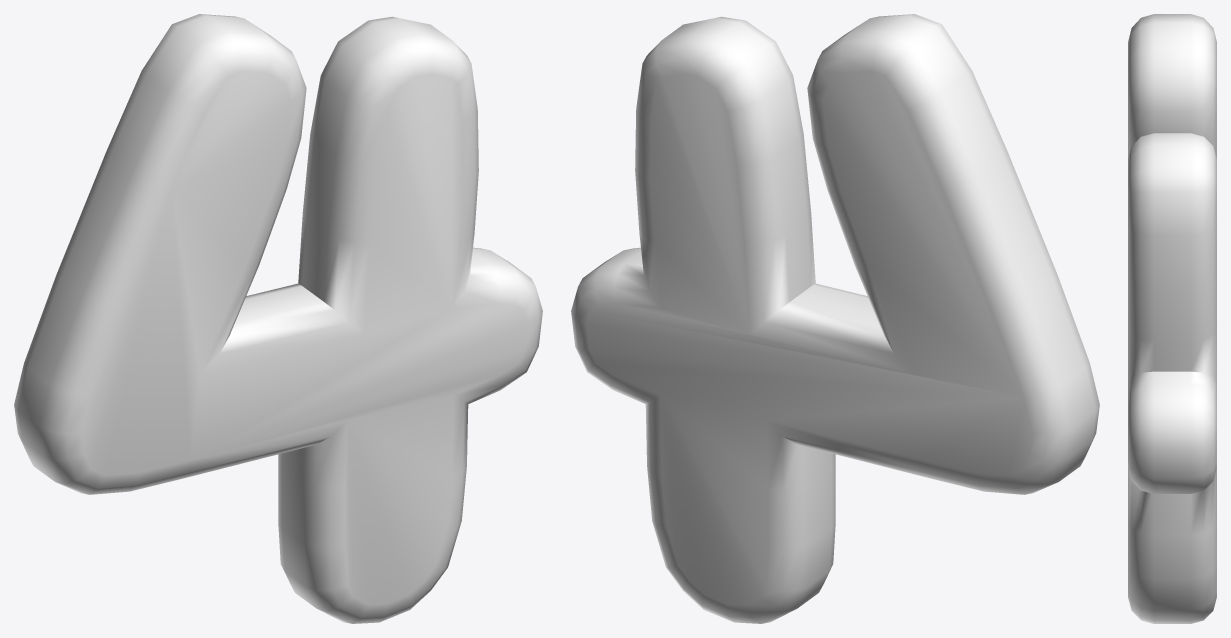
The model's file is NumberFour 2.fbx.
The picture shows the model from 3 angles, left to right: view 1: azimuth 30°, elevation 25°; view 2: azimuth 150°, elevation 25°; view 3: azimuth 270°, elevation 25°; orthographic projection. The views are drawn at different scales.
Visible parts, largest first — view 1: Vert.017; view 2: Vert.017; view 3: Vert.017.
Boxes of the visible parts, bbox=[...] form: Vert.017: bbox=[14, 14, 542, 623]; Vert.017: bbox=[571, 14, 1099, 623]; Vert.017: bbox=[1128, 14, 1216, 623].
Size of the model in its own units: 386 by 461 by 69.56.
